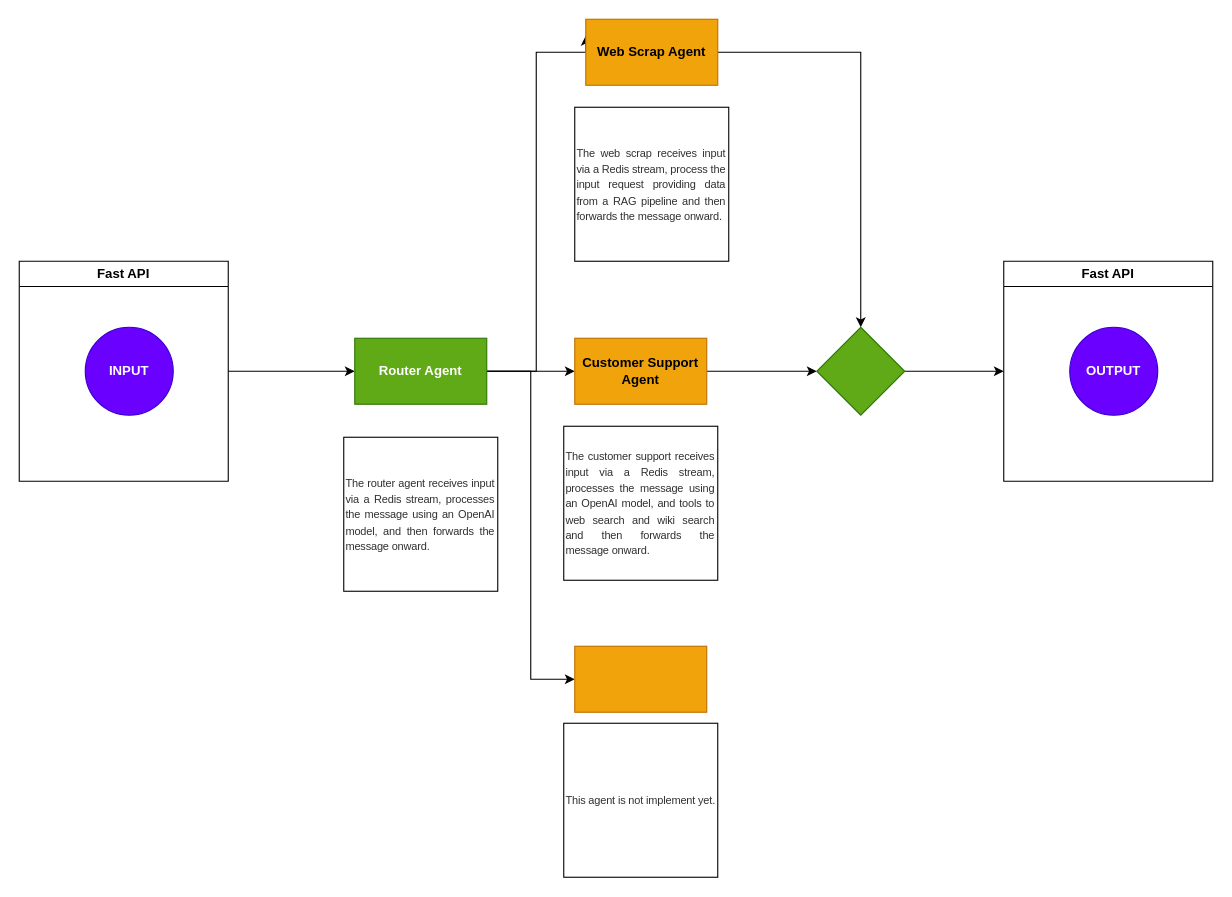
The diagram is 1232 pixels wide and 897 high, and some of its shapes have lost their labels. The shapes that lost their labels are listed below. From the top down, each one's centre as x and y in pixels, then its label:
At (860,370): "Redis".
At (640,678): "Customer Agent".
